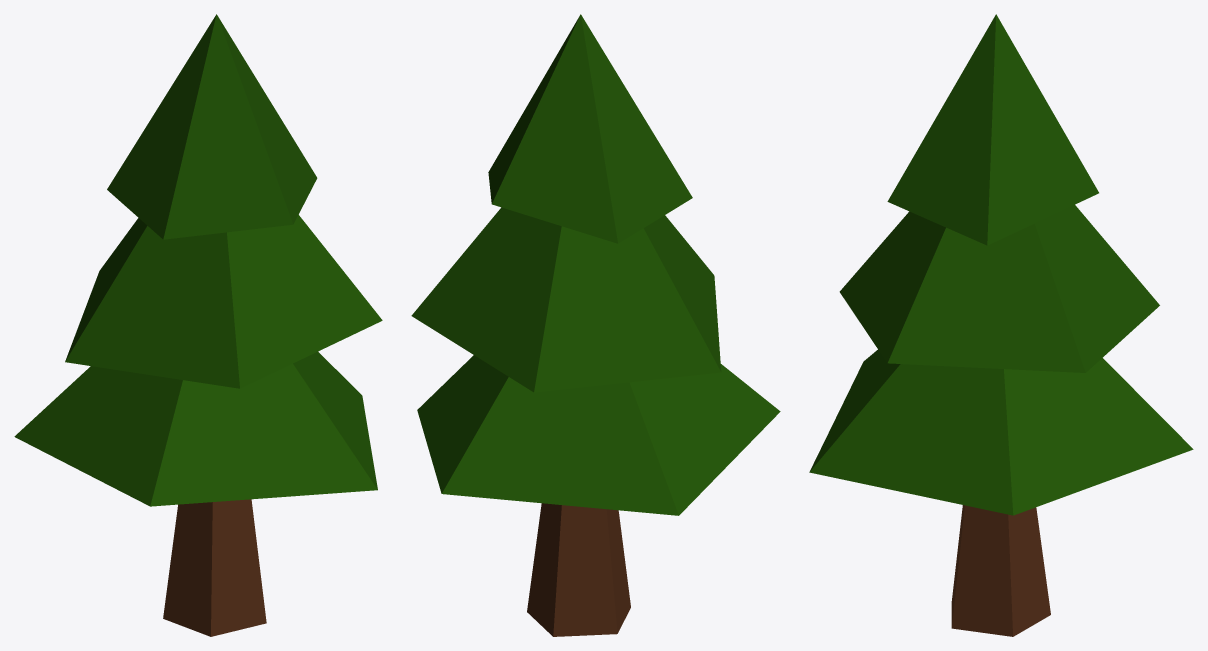
The model's file is christmax_tree.fbx.
The picture shows the model from 3 angles, left to right: view 1: azimuth 30°, elevation 25°; view 2: azimuth 150°, elevation 25°; view 3: azimuth 270°, elevation 25°; orthographic projection.
Parts seen in each view (by area): view 1: Bottom, Mid, Top, Tronc; view 2: Mid, Bottom, Top, Tronc; view 3: Bottom, Mid, Top, Tronc.
Part boxes in pixels (x1=…): Bottom: x1=14, y1=351, x2=377, y2=506; Mid: x1=65, y1=215, x2=382, y2=388; Top: x1=107, y1=14, x2=317, y2=239; Tronc: x1=163, y1=499, x2=266, y2=636; Mid: x1=411, y1=207, x2=721, y2=392; Bottom: x1=417, y1=355, x2=780, y2=515; Top: x1=488, y1=14, x2=692, y2=243; Tronc: x1=527, y1=503, x2=630, y2=636; Bottom: x1=809, y1=349, x2=1193, y2=515; Mid: x1=839, y1=205, x2=1159, y2=372; Top: x1=887, y1=14, x2=1098, y2=245; Tronc: x1=951, y1=505, x2=1050, y2=636.
Bounding box in the file's own units: 3.57 × 6.73 × 3.9.
Materials: 1 (1 with a texture image).
